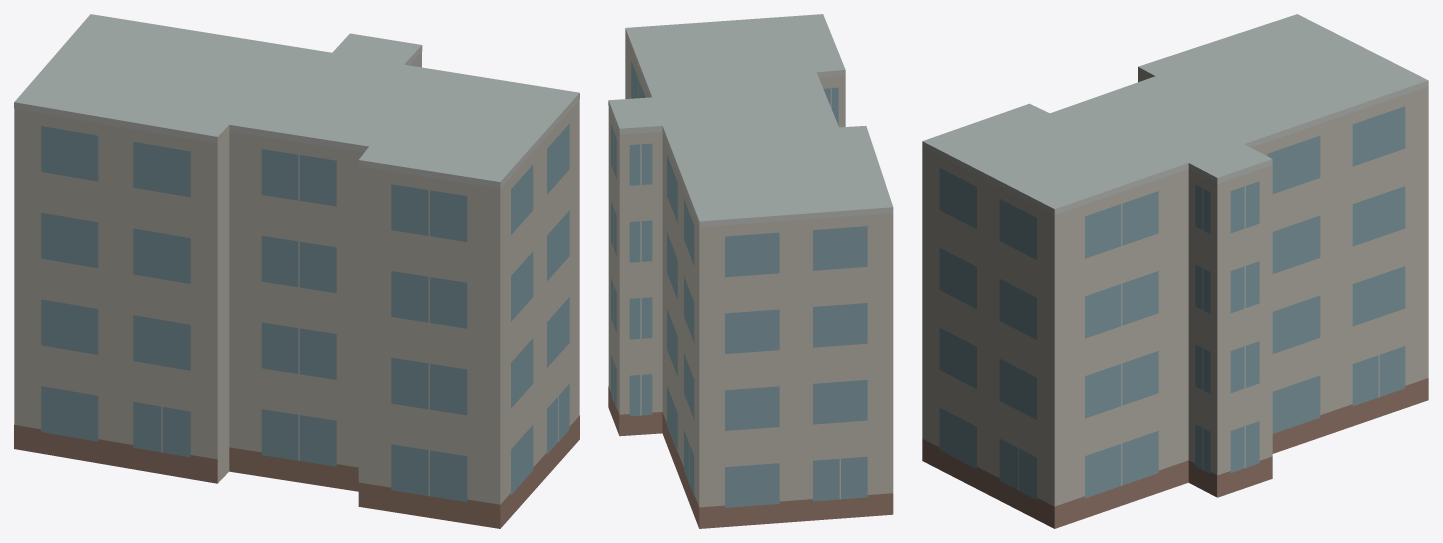
The model's file is survey-upis-32759957.glb.
3 renders of one model, left to right at view 1: azimuth 30°, elevation 25°; view 2: azimuth 150°, elevation 25°; view 3: azimuth 270°, elevation 25°, orthographic. The views are drawn at different scales.
Visible parts, largest first — view 1: survey-upis-32759957.tmp; view 2: survey-upis-32759957.tmp; view 3: survey-upis-32759957.tmp.
Part boxes in pixels (box(x1,y1,x2,y2)): survey-upis-32759957.tmp: box(14, 14, 579, 528); survey-upis-32759957.tmp: box(608, 14, 893, 528); survey-upis-32759957.tmp: box(922, 14, 1428, 528).
Bounding box in the file's own units: 17.03 × 13 × 18.67.
